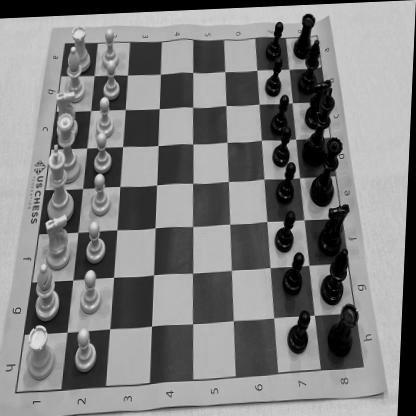black-bishop: (323, 247, 352, 304), (300, 36, 323, 94)
black-king: (303, 89, 337, 166)
black-knight: (319, 202, 353, 254), (304, 76, 334, 128)
black-pawn: (281, 250, 309, 298), (289, 308, 316, 356), (274, 208, 298, 252), (275, 161, 298, 204), (272, 126, 294, 168), (271, 92, 292, 135), (266, 55, 285, 96), (266, 19, 284, 62)
black-queen: (310, 133, 346, 208)
black-rook: (330, 302, 364, 358), (292, 8, 316, 61)
white-bishop: (35, 259, 66, 319), (63, 42, 88, 100)
white-king: (44, 138, 78, 222)
white-knight: (44, 210, 74, 267), (53, 86, 82, 136)
white-pawn: (73, 324, 102, 371), (80, 266, 105, 314), (90, 169, 115, 214), (86, 216, 110, 262), (94, 92, 116, 136), (93, 128, 116, 170), (100, 24, 121, 66), (102, 57, 122, 100)
white-queen: (54, 108, 84, 181)
white-rook: (27, 320, 59, 379), (68, 19, 94, 70)
